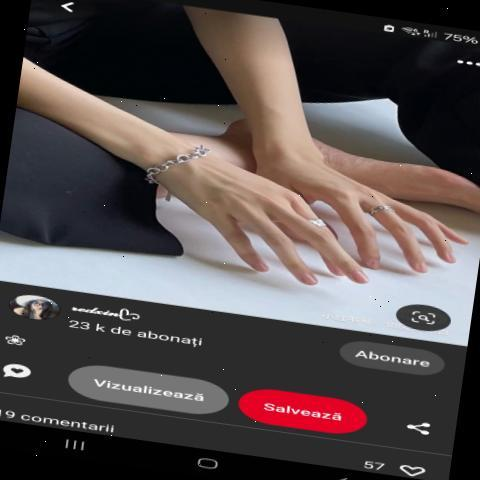Hands: (146, 140, 380, 313), (251, 131, 479, 274)
